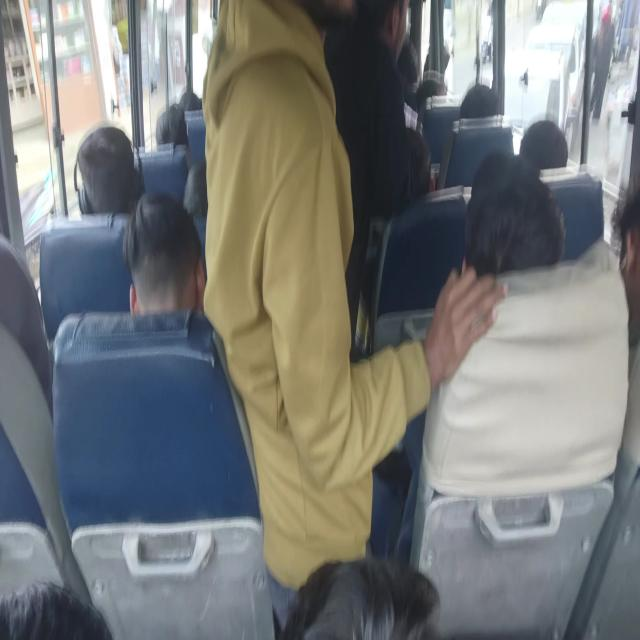person: (216, 0, 355, 441), (123, 193, 204, 317), (1, 580, 115, 638), (76, 127, 140, 218), (613, 175, 640, 325), (519, 119, 570, 172), (470, 148, 518, 197), (405, 126, 432, 199), (182, 162, 208, 222), (459, 83, 500, 120), (154, 104, 188, 148), (396, 38, 418, 96), (419, 73, 448, 102), (178, 90, 202, 113)
